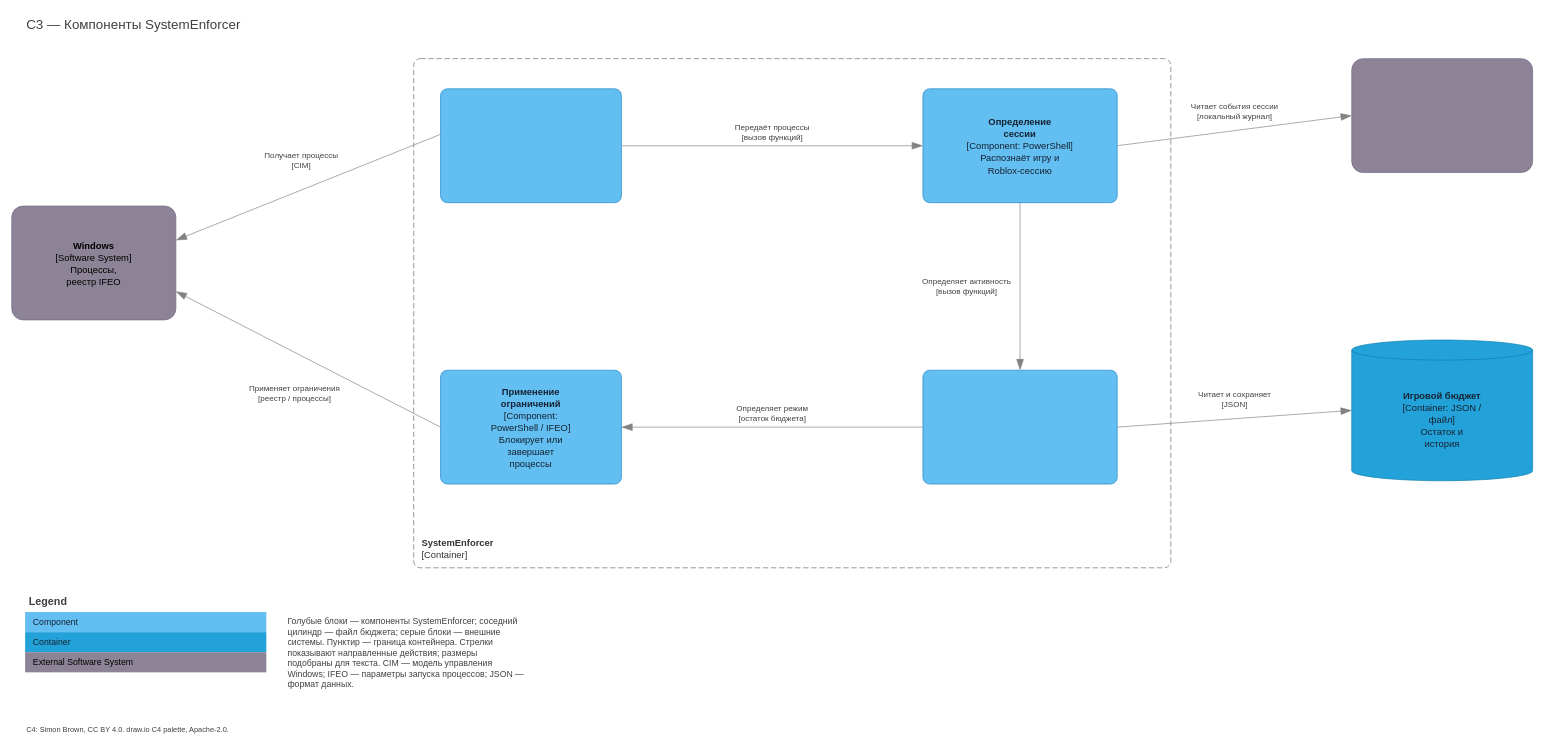
Image size: 1544x754. Some labels were removed from this diagram. Each missing label, with the centre of its shape:
"Roblox [Software System] Журнал сессий" goes at point 1442,115.
"Опрос процессов [Component: CIM / PowerShell] Проверяет обнаруженные процессы" goes at point 530,145.
"Учёт бюджета [Component: PowerShell] Списывает время и записывает историю" goes at point 1019,427.
